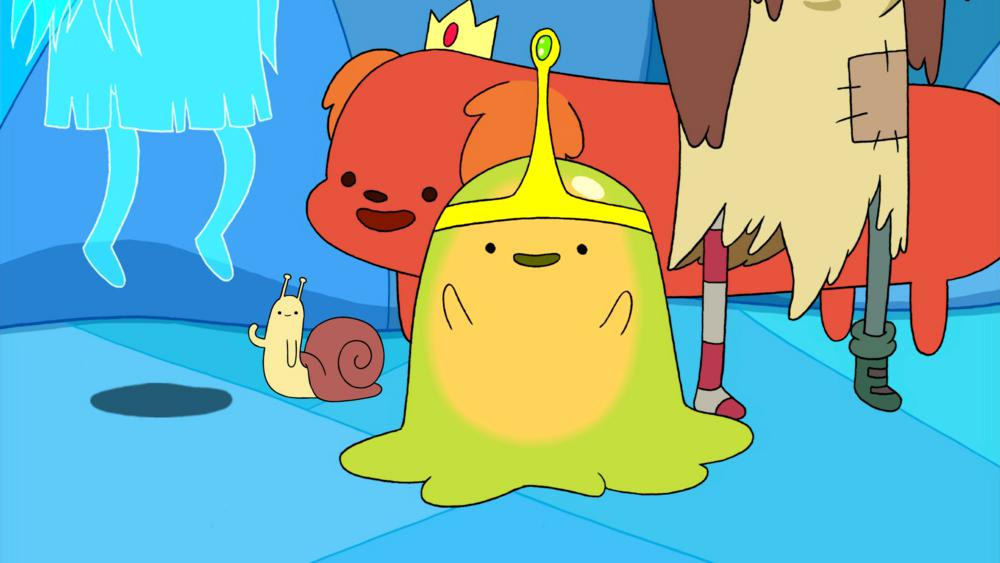snail: (245, 271, 389, 405)
